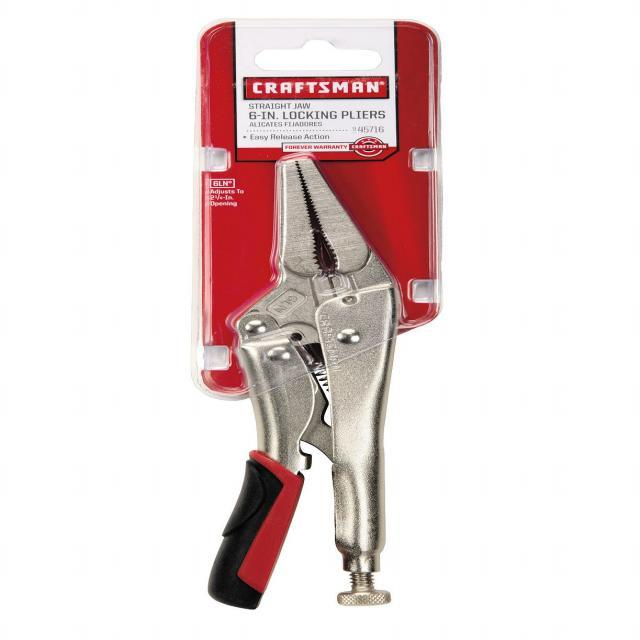pliers: (196, 151, 409, 617)
